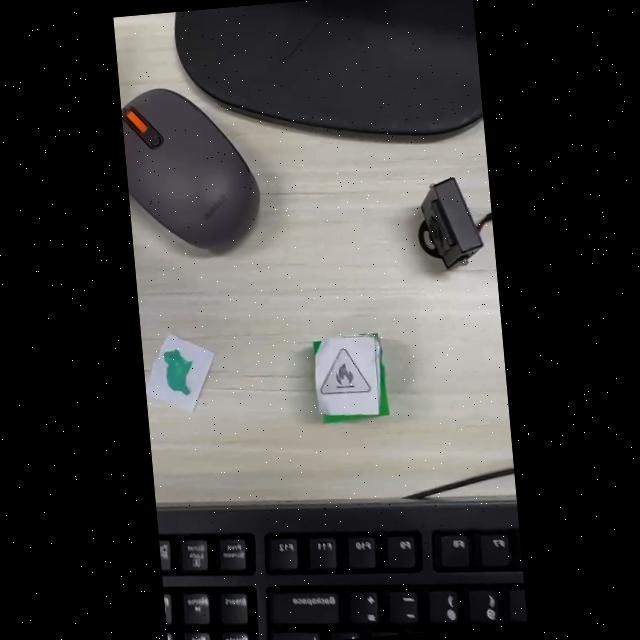Fire: (320, 348, 371, 394)
